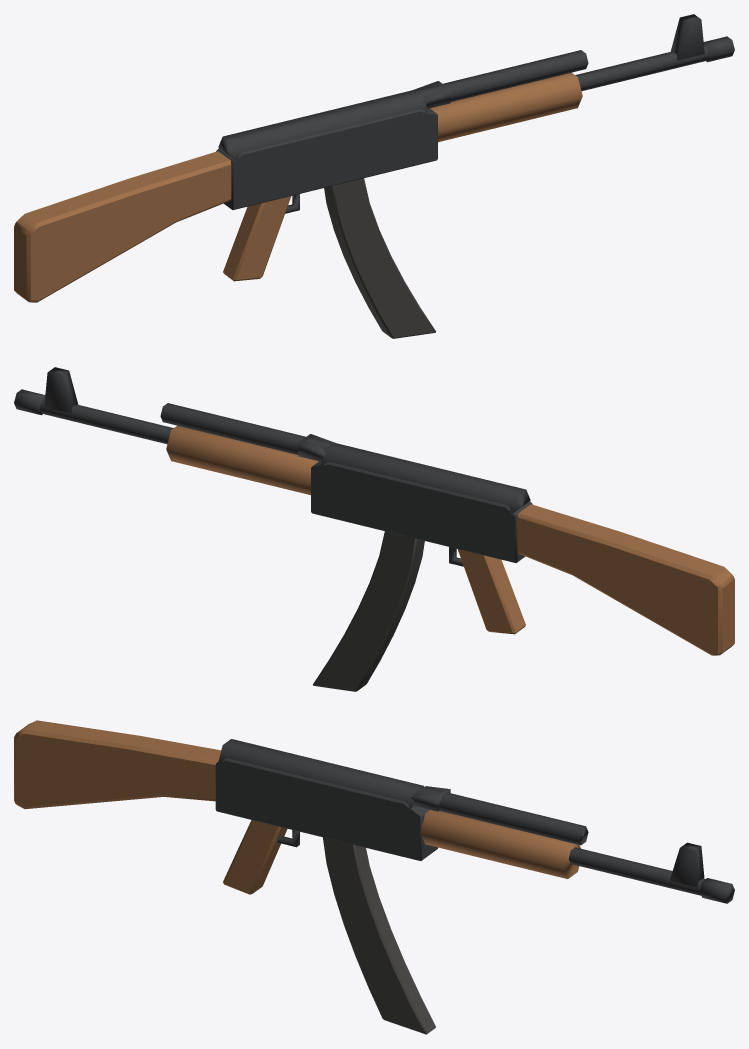
Rendered from type56.gltf.
The picture shows the model from 3 angles, top to bottom: view 1: azimuth 30°, elevation 25°; view 2: azimuth 150°, elevation 25°; view 3: azimuth 330°, elevation 25°; orthographic projection.
Visible parts, largest first — view 1: type56; view 2: type56; view 3: type56.
Boxes of the visible parts, x1,y1,x2,y2 form: type56: (14, 14, 734, 338); type56: (14, 367, 734, 691); type56: (14, 720, 734, 1034).
Size of the model in its own units: 0.995 by 0.3318 by 0.048.
